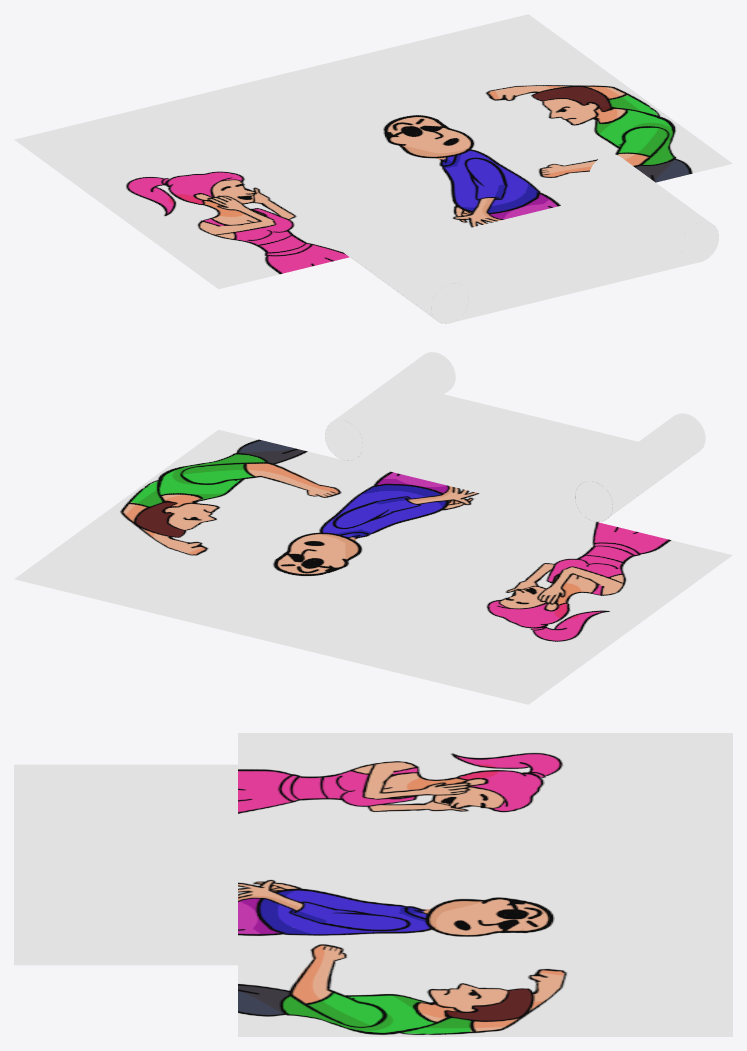
The model's file is Level 126.fbx.
The picture shows the model from 3 angles, top to bottom: view 1: azimuth 30°, elevation 25°; view 2: azimuth 150°, elevation 25°; view 3: azimuth 270°, elevation 25°; orthographic projection. The views are drawn at different scales.
Visible parts, largest first — view 1: background, right_piller, left_piller; view 2: background, right_piller, left_piller; view 3: background, left_piller, right_piller.
Boxes of the visible parts, box(x1,y1,x2,y2) form: background: box(14, 14, 732, 322); right_piller: box(588, 154, 718, 262); left_piller: box(338, 215, 468, 323); background: box(14, 394, 732, 704); right_piller: box(325, 352, 455, 460); left_piller: box(575, 413, 705, 521); background: box(14, 733, 732, 1036); left_piller: box(14, 764, 237, 817); right_piller: box(14, 912, 237, 965).
Size of the model in its own units: 2400 by 178 by 2400.
